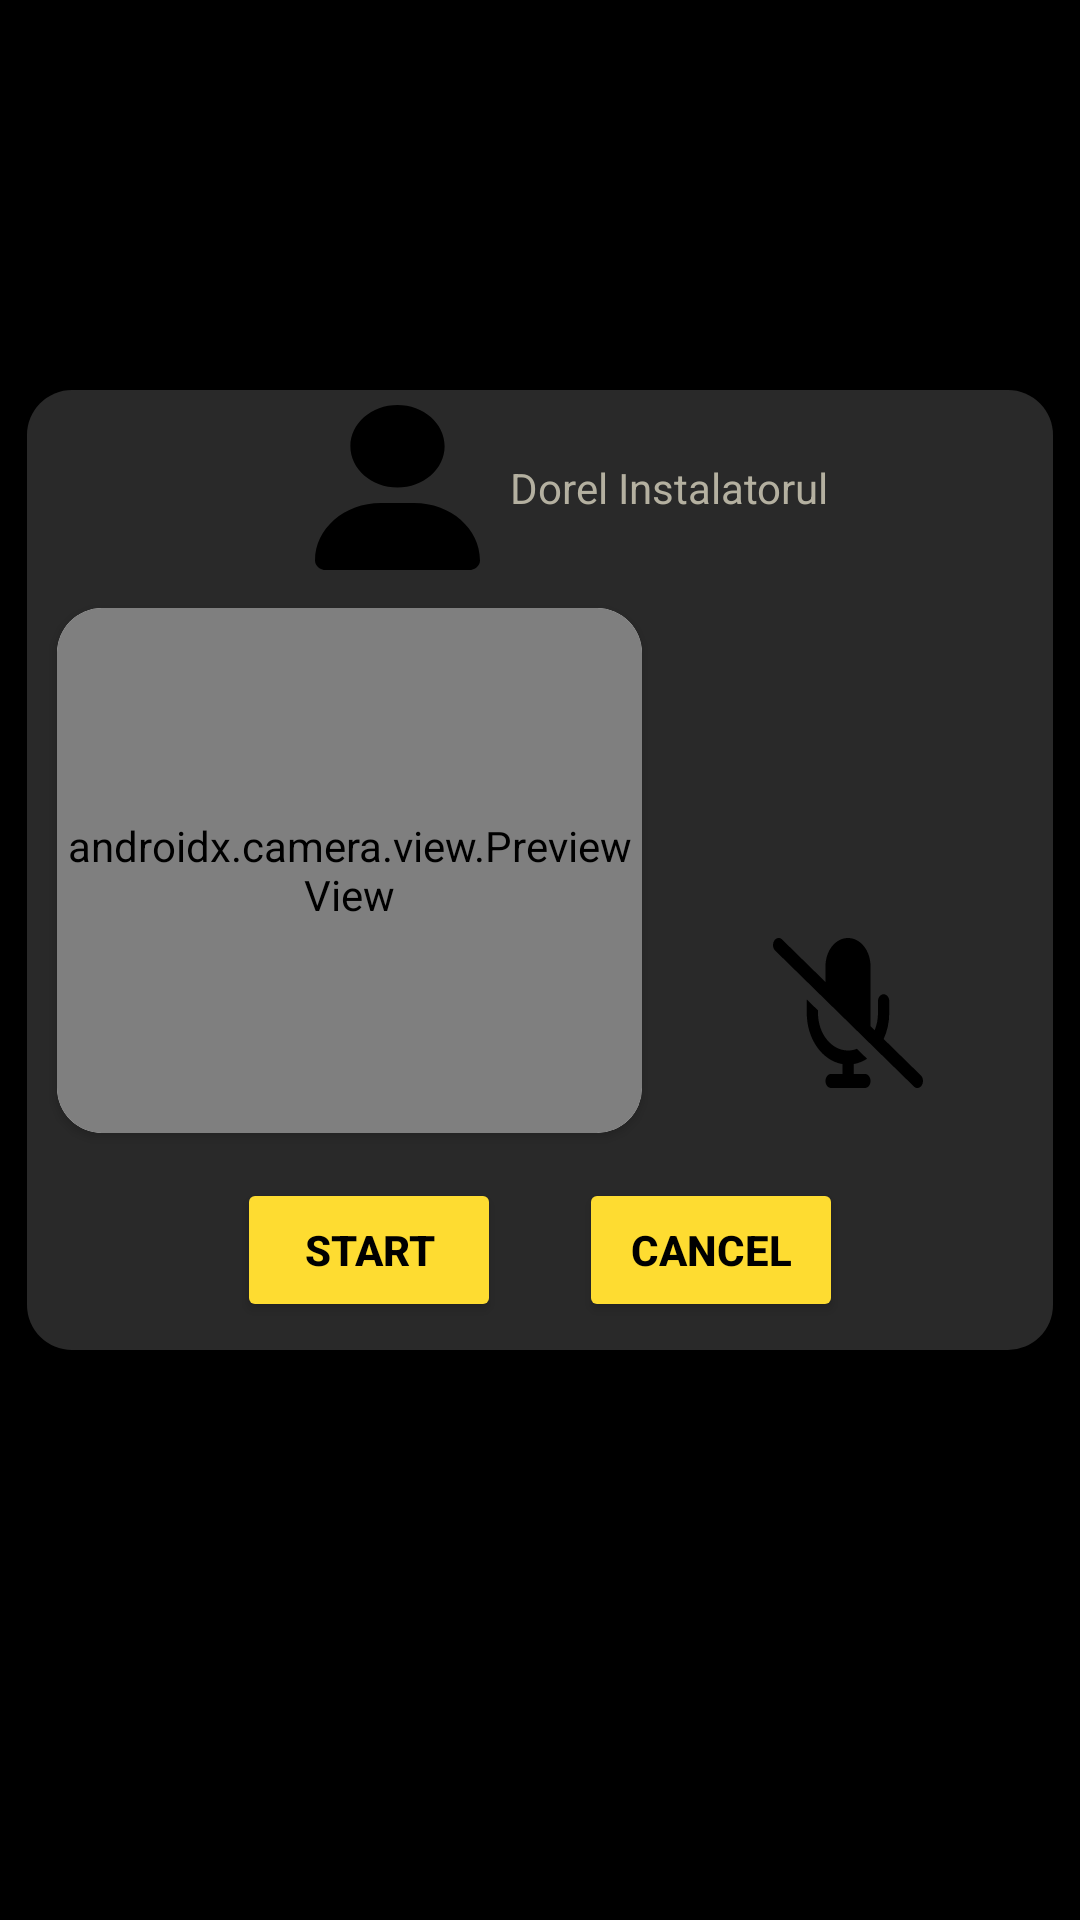

Where to tap for icons on this 1080w x 1920h app screen, as (x,y):
microphone slash: (848,1013)
user: (397,487)
